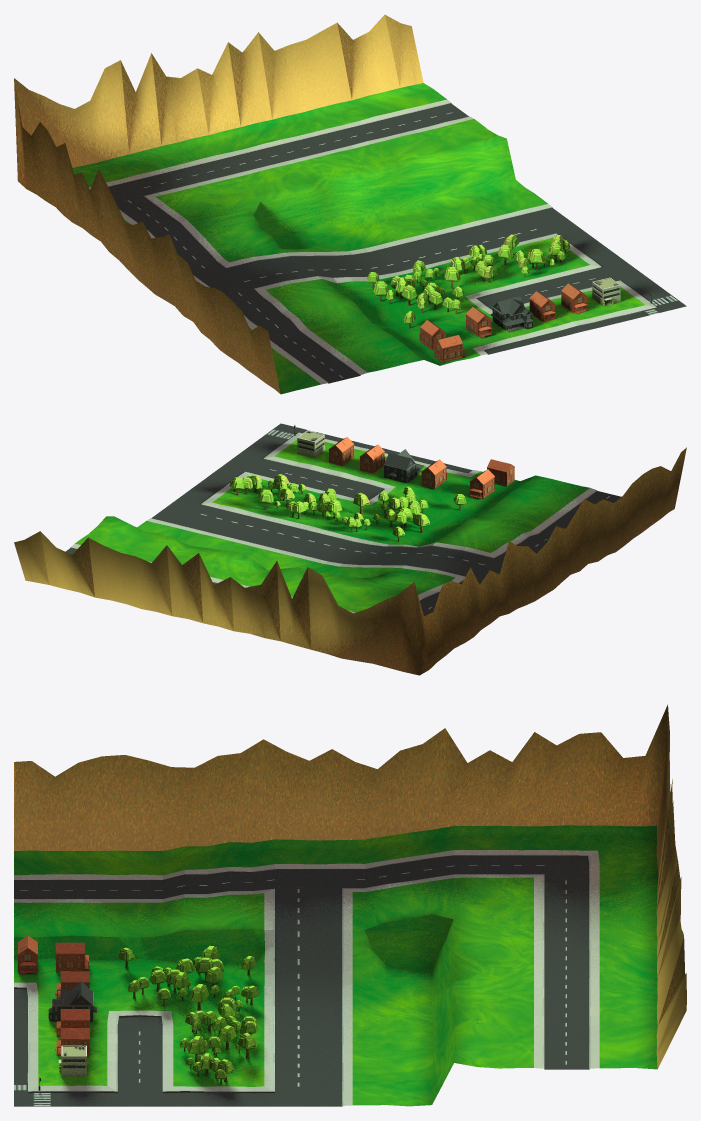
File: city_nw.obj
The picture shows the model from 3 angles, top to bottom: view 1: azimuth 30°, elevation 25°; view 2: azimuth 150°, elevation 25°; view 3: azimuth 270°, elevation 25°; orthographic projection. The views are drawn at different scales.
Bounding box in the file's own units: 317 × 95.26 × 360.
